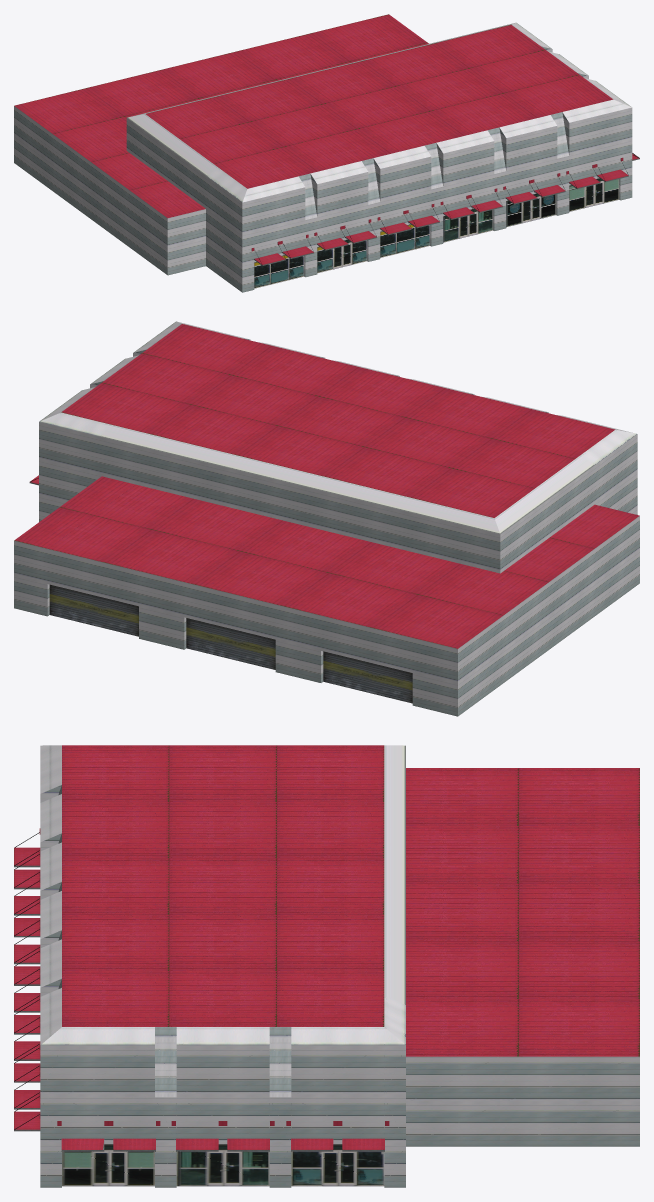
File: lowbuild01_lvs.obj
The picture shows the model from 3 angles, top to bottom: view 1: azimuth 30°, elevation 25°; view 2: azimuth 150°, elevation 25°; view 3: azimuth 270°, elevation 25°; orthographic projection. The views are drawn at different scales.
Visible parts, largest first — view 1: lowbuild01_lvs; view 2: lowbuild01_lvs; view 3: lowbuild01_lvs.
Boxes of the visible parts, bbox=[...] form: lowbuild01_lvs: bbox=[14, 14, 639, 292]; lowbuild01_lvs: bbox=[14, 321, 639, 716]; lowbuild01_lvs: bbox=[14, 745, 639, 1187].
Size of the model in its own units: 50.23 by 10.41 by 39.02.
9 materials, 9 textured.
